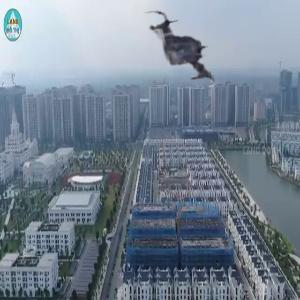drone: (134, 2, 233, 101)
